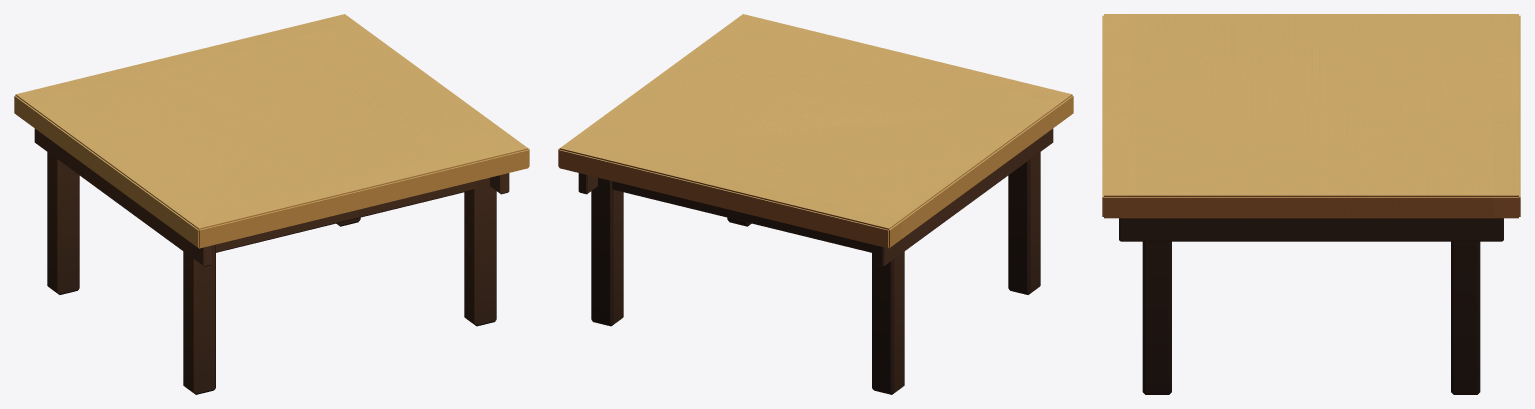
Rendered from desk_set.glb.
3 views of the same model, side by side, from view 1: azimuth 30°, elevation 25°; view 2: azimuth 150°, elevation 25°; view 3: azimuth 270°, elevation 25° (orthographic). The views are drawn at different scales.
Parts seen in each view (by area): view 1: m0, m1, m10, m14, m4, m8, m5, m12, m3, m2, m9, m11 (+3 smaller); view 2: m0, m14, m6, m7, m1, m4, m8, m5, m2, m15, m12, m3 (+2 smaller); view 3: m0, m4, m8, m12, m1, m2, m5, m6, m10, m9, m14, m13.
Part boxes in pixels (box(x1,y1,x2,y2)): m0: box(31, 24, 512, 394); m1: box(33, 22, 516, 251); m10: box(163, 37, 523, 247); m14: box(24, 17, 519, 226); m4: box(14, 14, 515, 253); m8: box(26, 23, 529, 266); m5: box(90, 15, 515, 217); m12: box(14, 15, 528, 262); m3: box(38, 25, 450, 250); m2: box(25, 24, 460, 252); m9: box(64, 27, 528, 246); m11: box(51, 35, 522, 245); m0: box(575, 24, 1060, 394); m14: box(567, 19, 1069, 226); m6: box(565, 25, 1013, 248); m7: box(564, 28, 1053, 244); m1: box(571, 22, 1054, 251); m4: box(558, 23, 1062, 266); m8: box(573, 14, 1073, 252); m5: box(559, 24, 1046, 245); m2: box(613, 24, 1062, 252); m15: box(574, 30, 909, 175); m12: box(562, 14, 1073, 264); m3: box(612, 25, 1051, 251); m0: box(1133, 15, 1489, 394); m4: box(1129, 14, 1520, 241); m8: box(1102, 14, 1493, 241); m12: box(1104, 14, 1518, 241); m1: box(1129, 17, 1493, 218); m2: box(1129, 14, 1493, 185); m5: box(1129, 18, 1520, 195); m6: box(1129, 14, 1520, 192); m10: box(1102, 14, 1493, 193); m9: box(1102, 20, 1492, 196); m14: box(1104, 14, 1518, 180); m13: box(1104, 63, 1518, 195).
Size of the model in its own units: 1.04 by 0.55 by 1.
